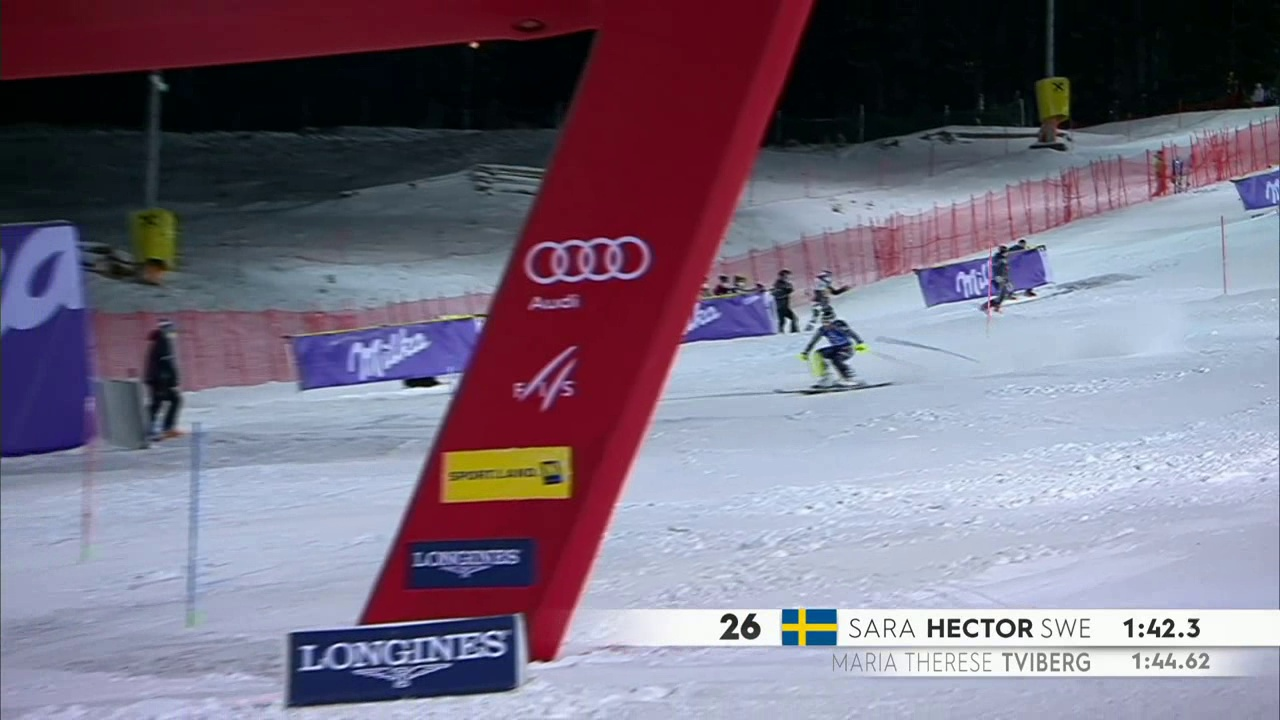audi: (521, 229, 657, 294)
longines: (307, 622, 508, 704)
milka: (309, 323, 459, 388)
